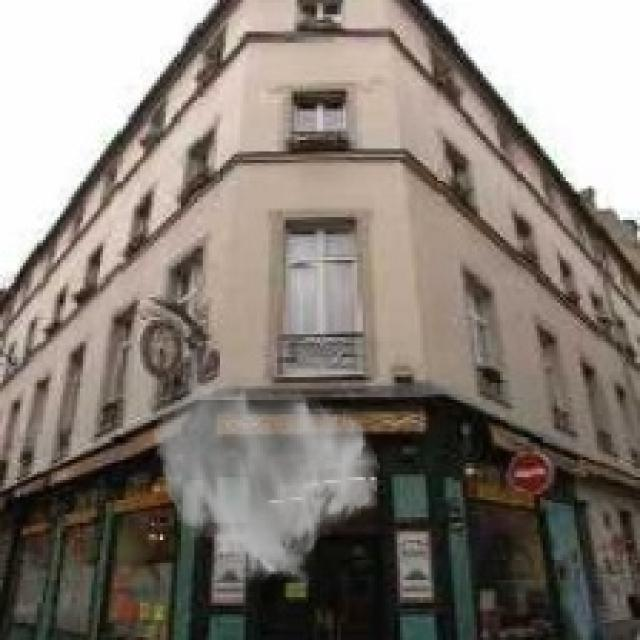smoke: (151, 380, 383, 589)
